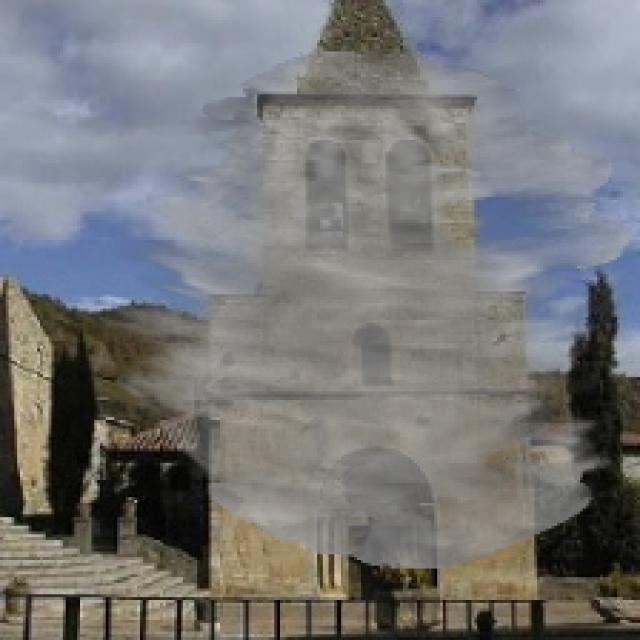Smoke: (111, 49, 634, 568)
